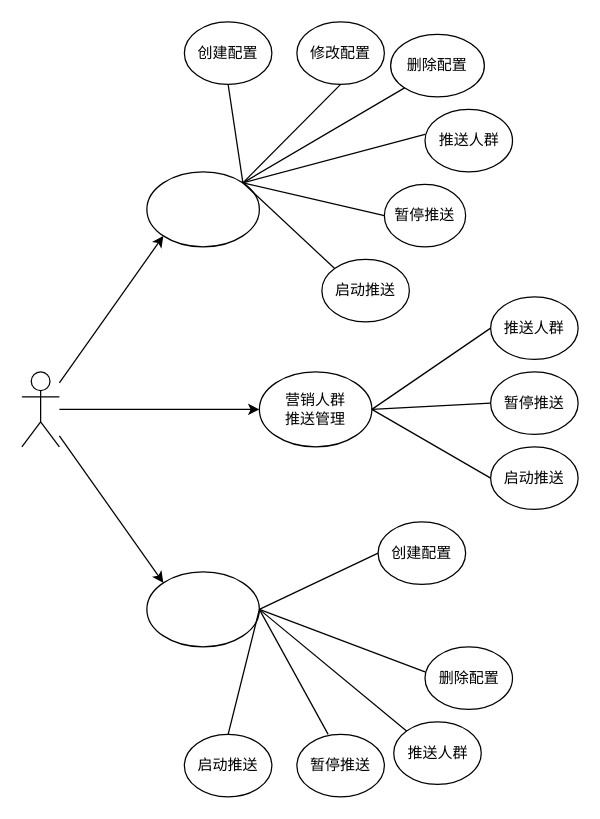
Some shapes in this 600 by 819 pixel diagram are drawn without their labels. The shapes that lost their labels are listed below. From the top down, each one's centre as x and y in pixels, then its label:
(x=202, y=209): 人群推送管理
(x=40, y=409): 用户
(x=202, y=609): 标签推送管理
